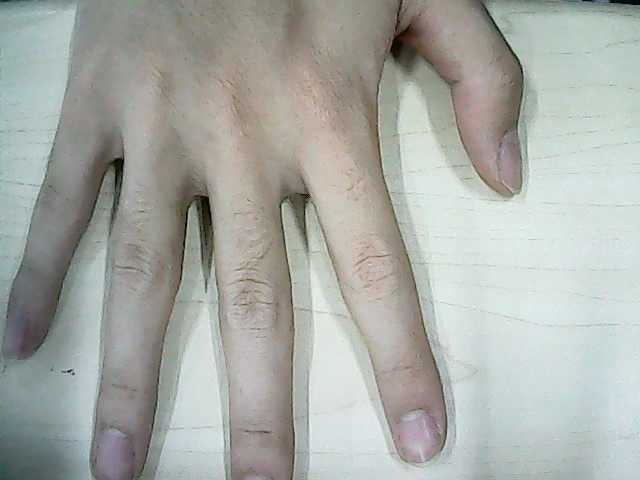nail: (395, 408, 443, 464), (91, 424, 138, 480), (497, 123, 525, 198), (1, 312, 30, 355)
